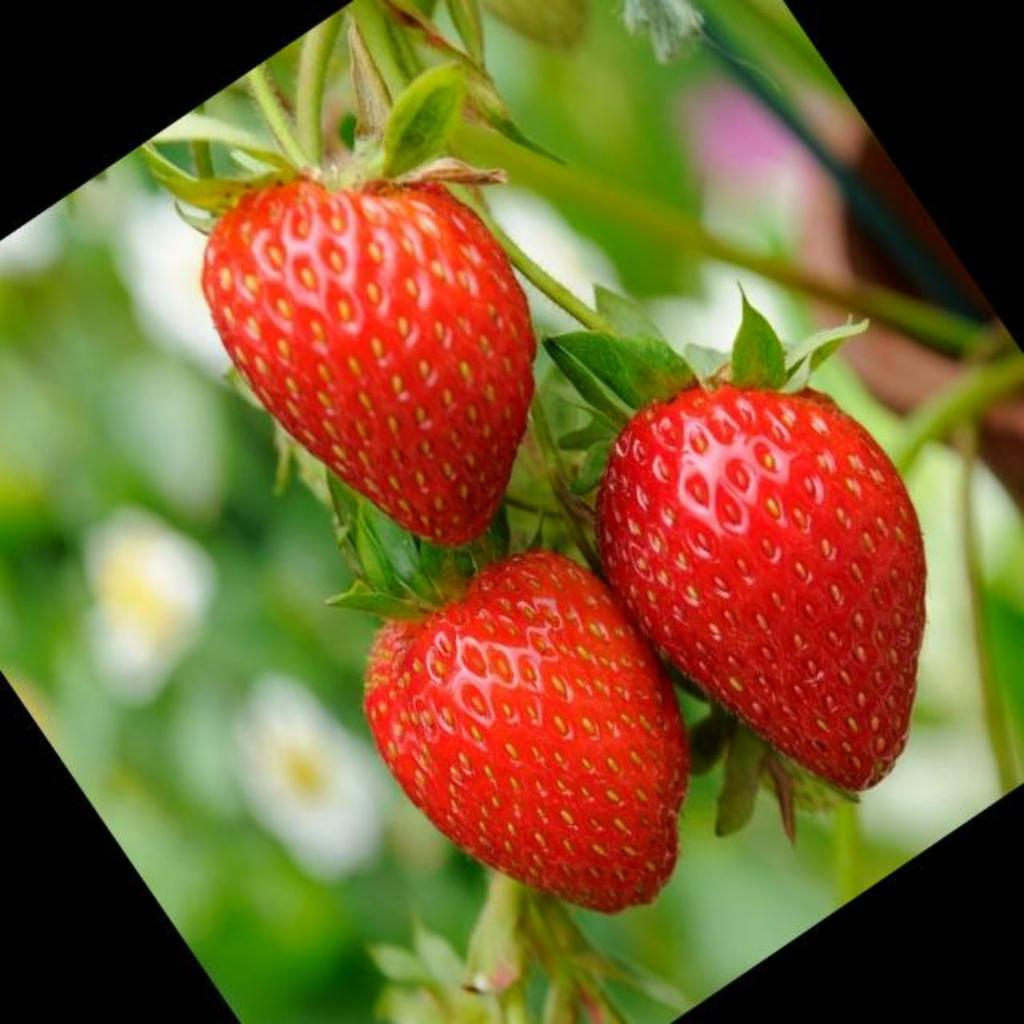strawberry: (598, 384, 926, 791), (202, 178, 536, 545), (364, 552, 690, 911)
